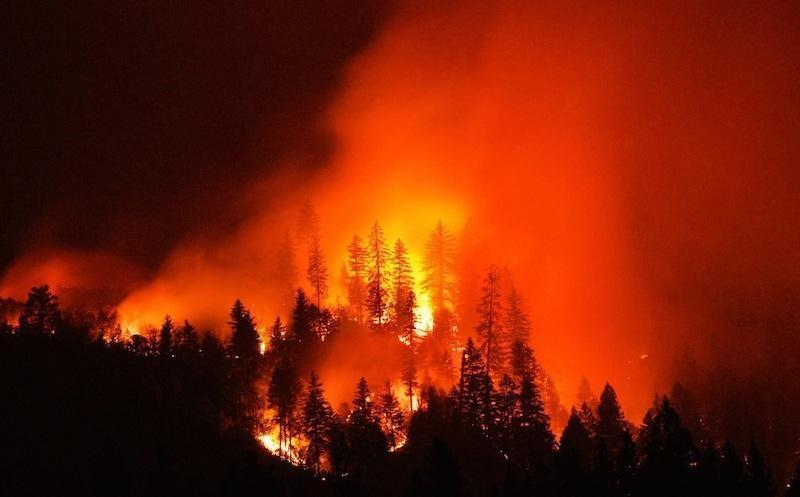fire: (215, 218, 474, 468), (78, 291, 172, 354)
